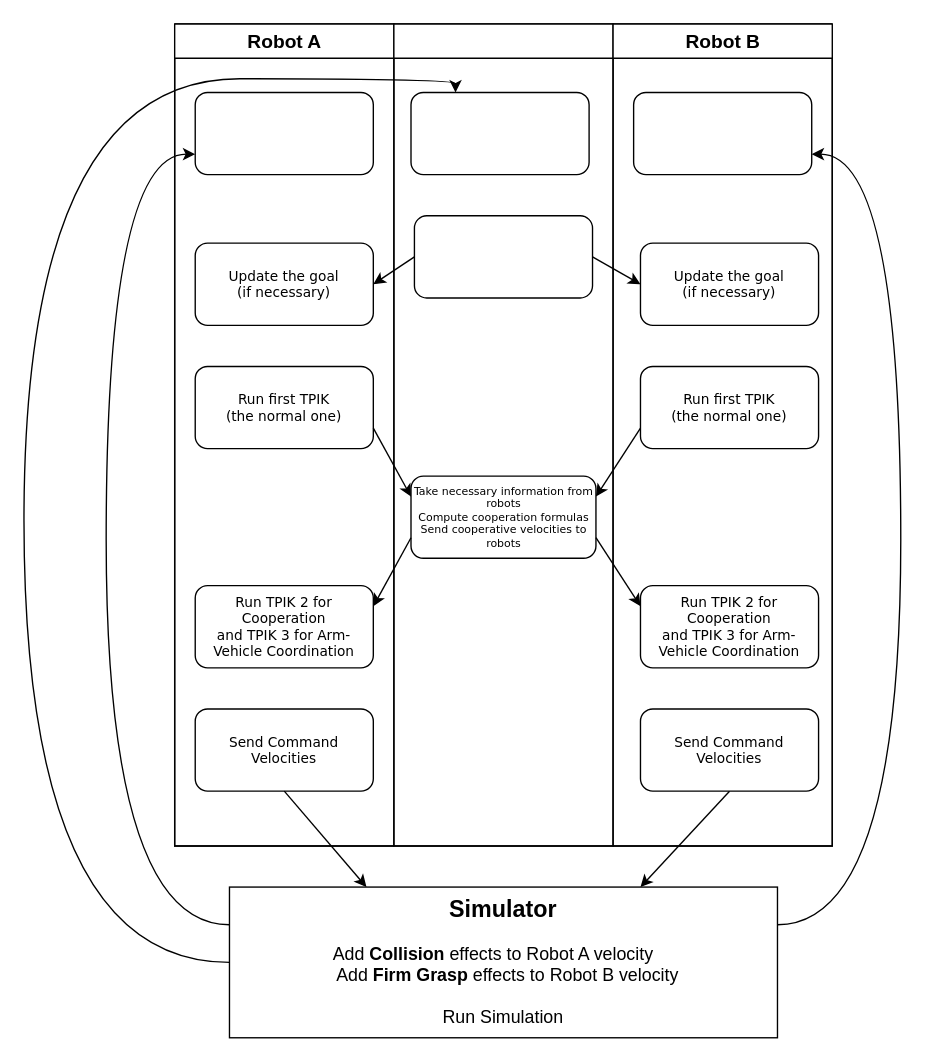
The diagram is 925 pixels wide and 1062 high, and some of its shapes have lost their labels. Here are the shapes that lost their labels. From the top down, the box of each, then its label:
(194, 91, 373, 175): Get Robot A State Get World Informaton
(410, 91, 589, 175): Get Robot Force-Torque Information (to modify Goal) Get World Informaton
(632, 91, 812, 175): Get Robot B State Get World Informaton
(413, 214, 593, 298): Modify the Goal according to force-torque data
(393, 23, 613, 846): Coordinator
